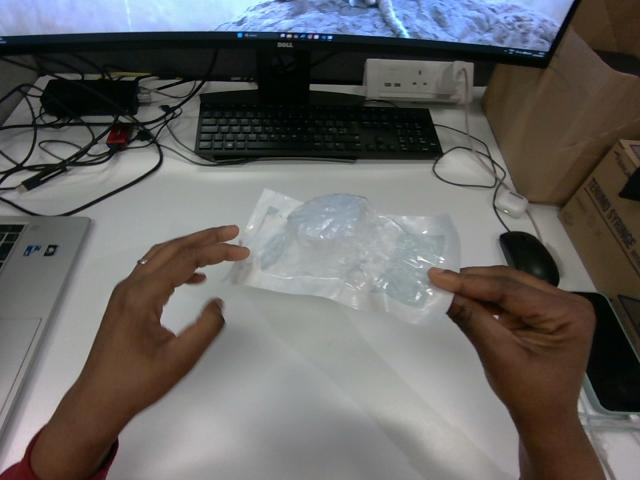gallipot: (226, 190, 459, 323)
